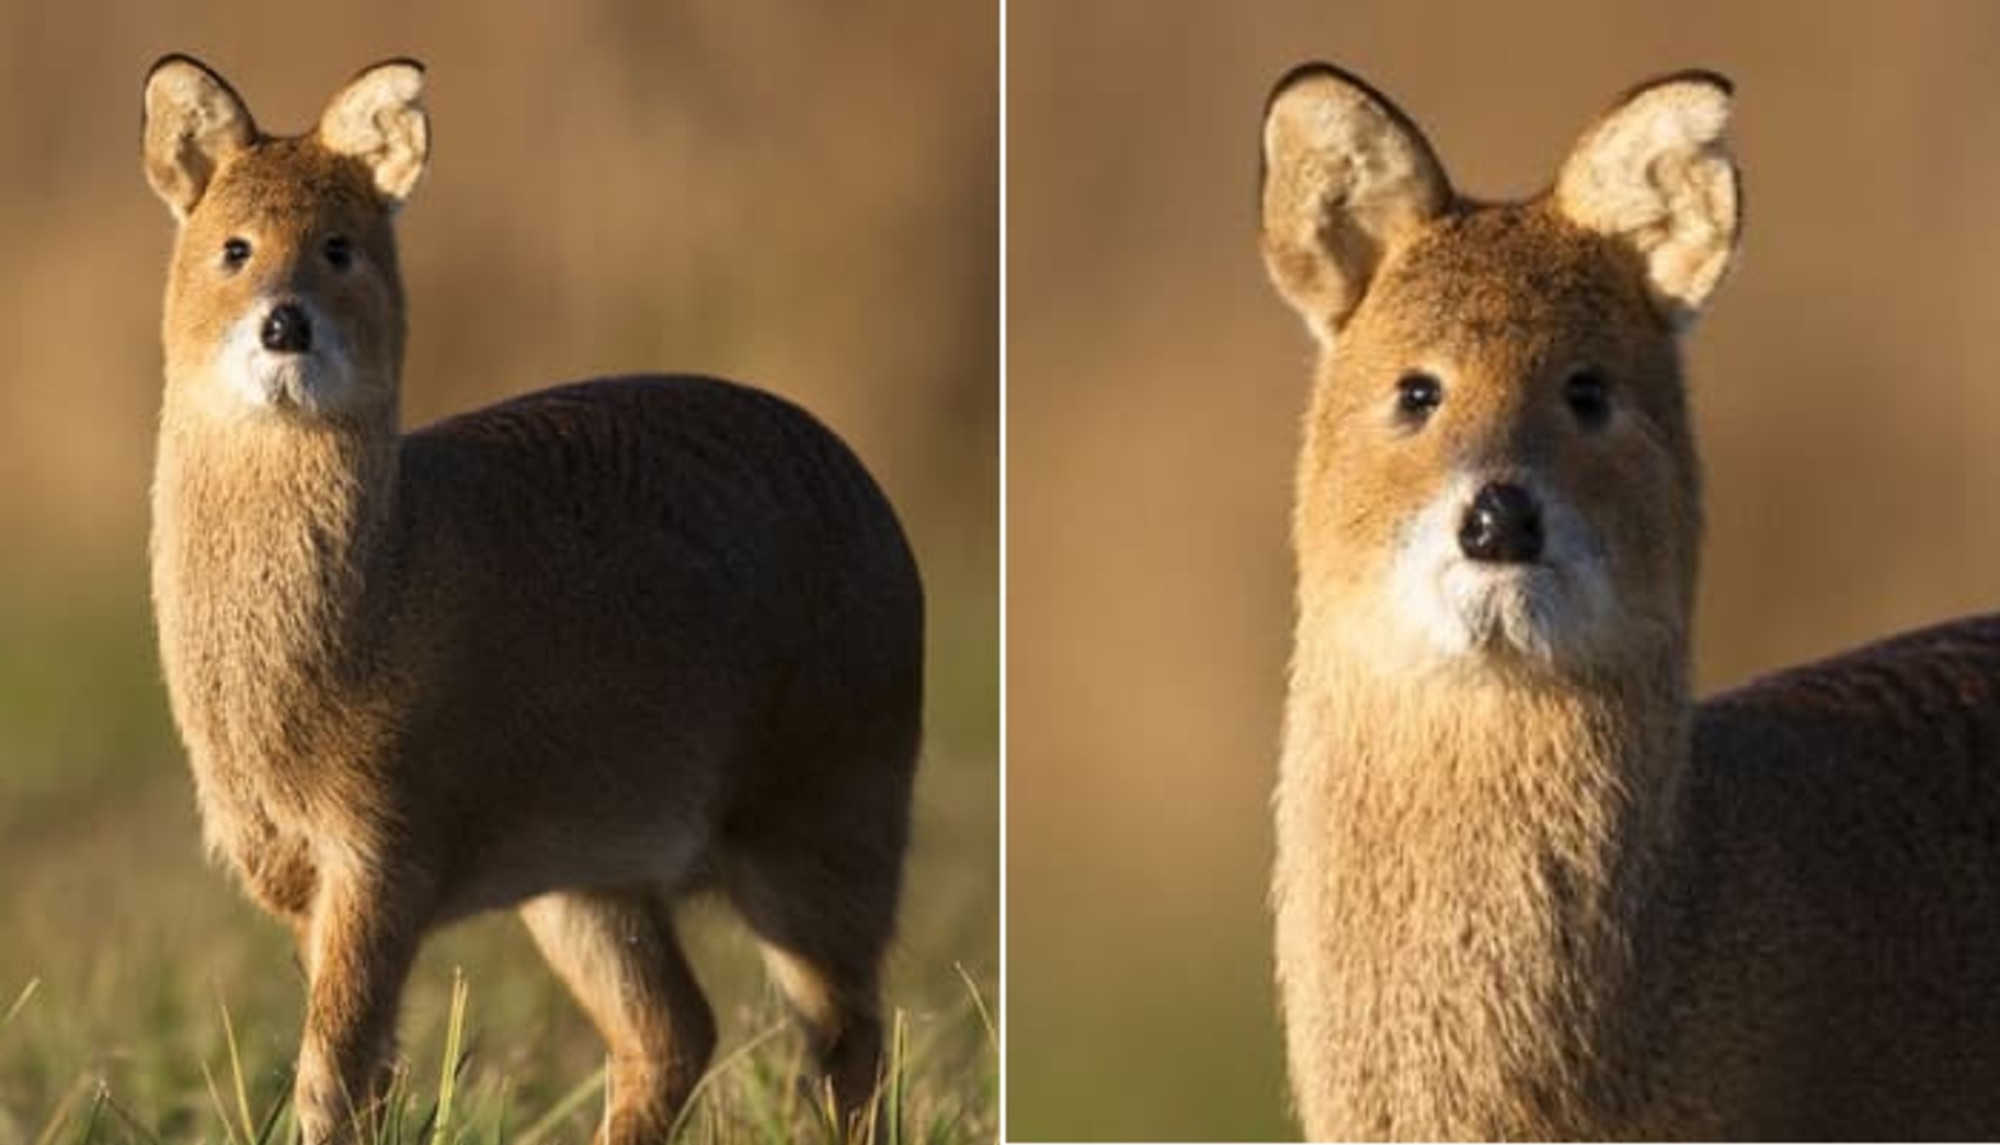elk: (135, 49, 909, 1105), (1240, 54, 1966, 1108)
